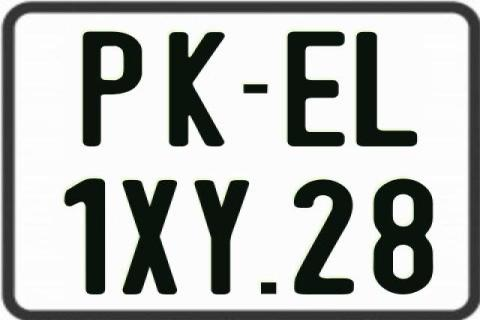0: (372, 177, 435, 295), (292, 179, 356, 295), (61, 179, 104, 299)
E: (285, 31, 346, 147)
K: (168, 29, 224, 145)
L: (355, 32, 422, 150)
P: (84, 29, 146, 144)
X: (121, 180, 176, 295)
Y: (191, 178, 252, 294)
